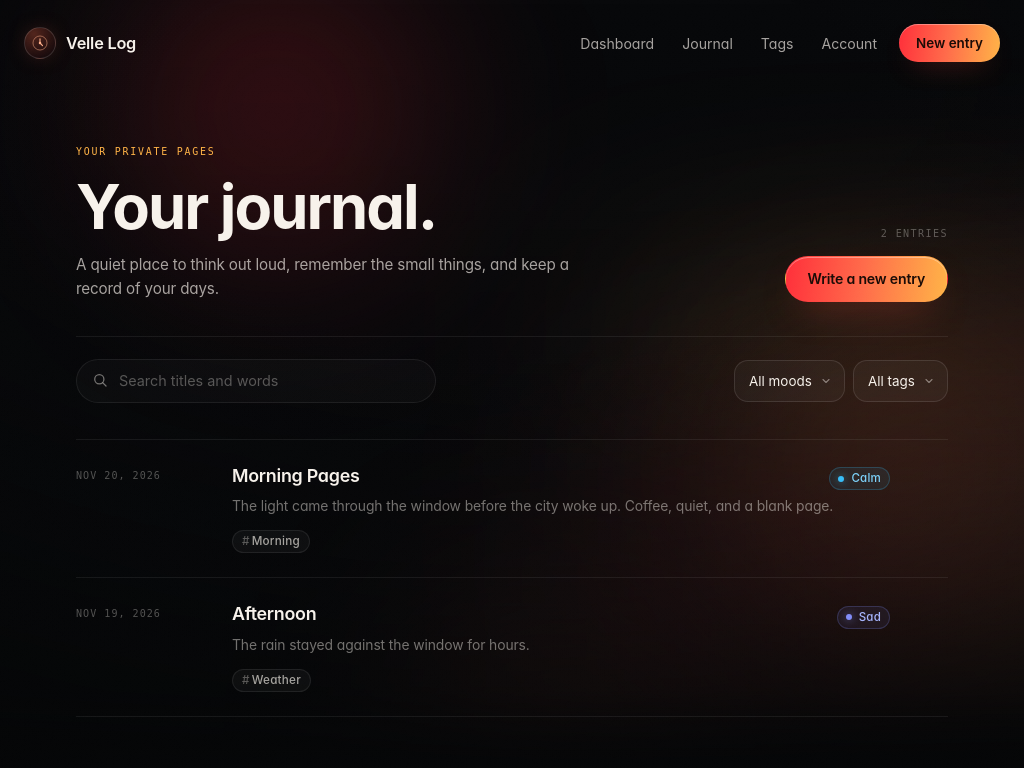
journal › searches titles and content after a short pause
Check: the heading "Morning Pages" is shown, box [232, 464, 360, 487]
Type "rain" into the search field named "Search entries". click: point(270, 380)
box: [119, 372, 420, 389]
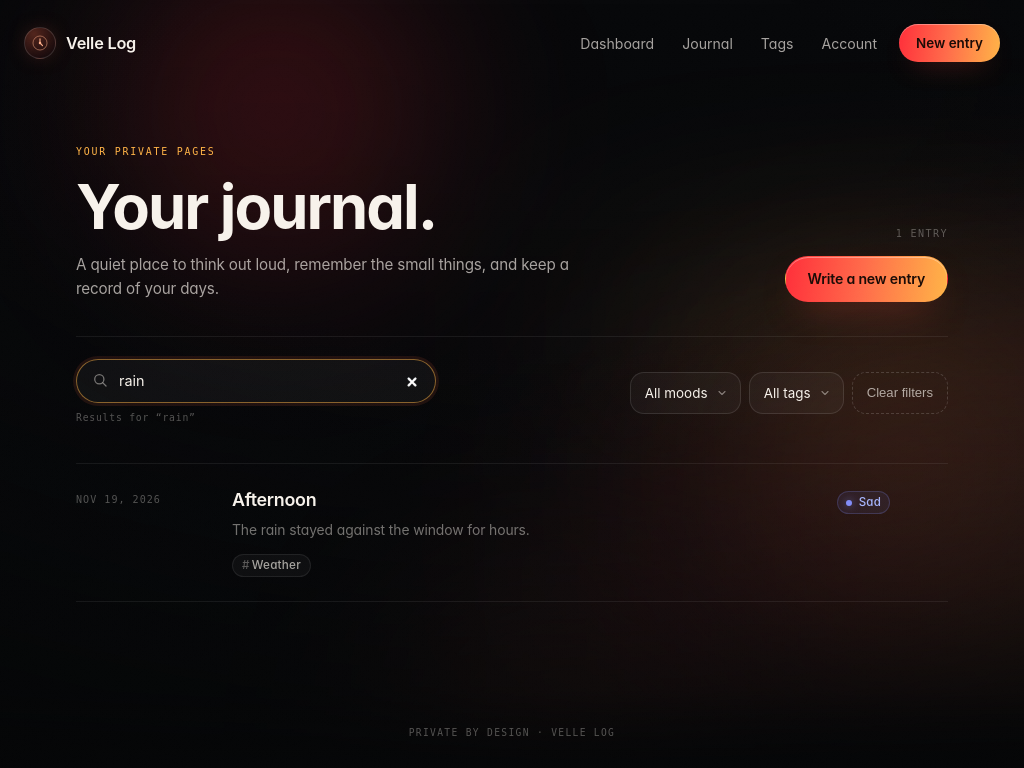
Check: the heading "Afternoon" is shown, box [232, 488, 316, 511]
Check: the link "Morning Pages" is gone
Check: the text "Results for “rain”" is shown, box [76, 412, 196, 422]
